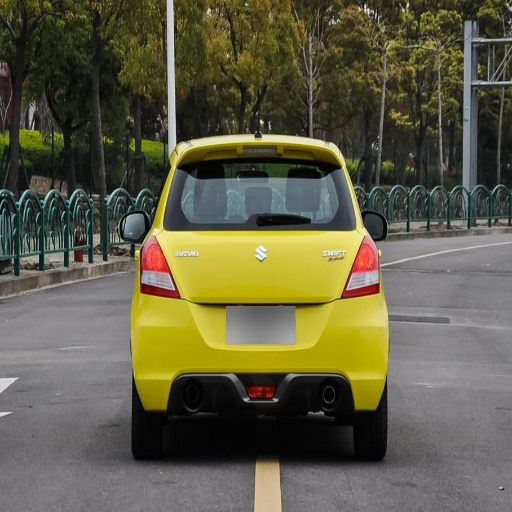back_bumper: (134, 285, 390, 417)
trunk: (158, 231, 363, 340)
